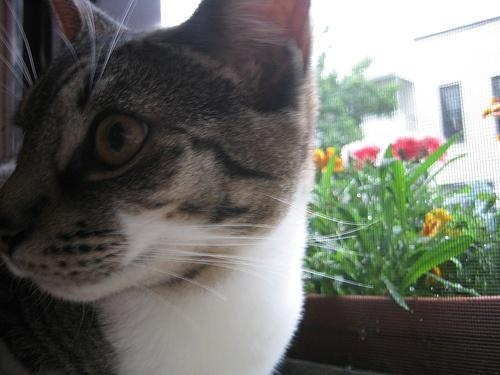cat: (1, 2, 313, 375)
